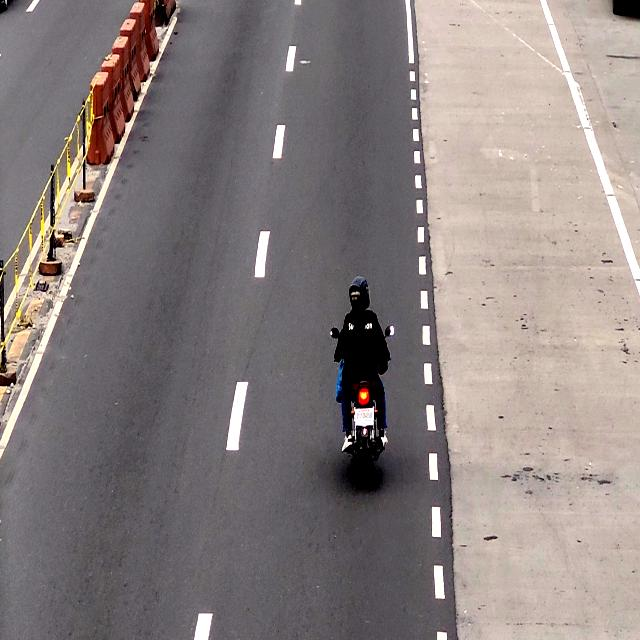License-Plate: (352, 406, 378, 430)
Motorcycle: (336, 278, 388, 483)
